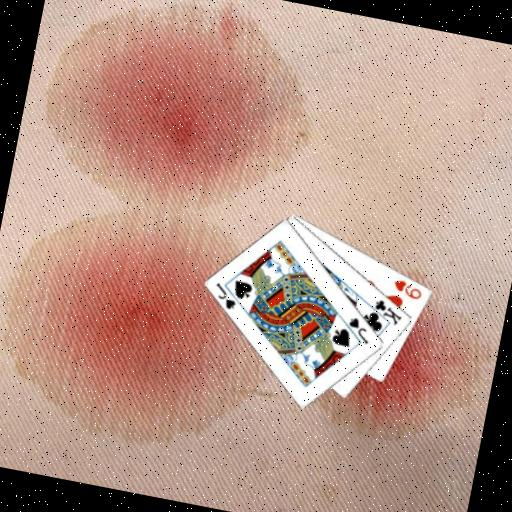9H: (389, 275, 426, 302)
JS: (343, 313, 375, 346), (209, 280, 241, 313)
KC: (364, 295, 407, 329)
